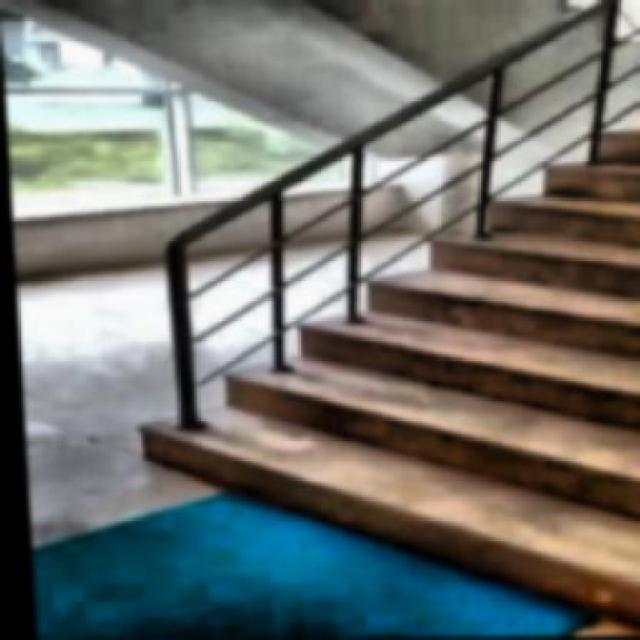stair: (70, 67, 638, 638)
